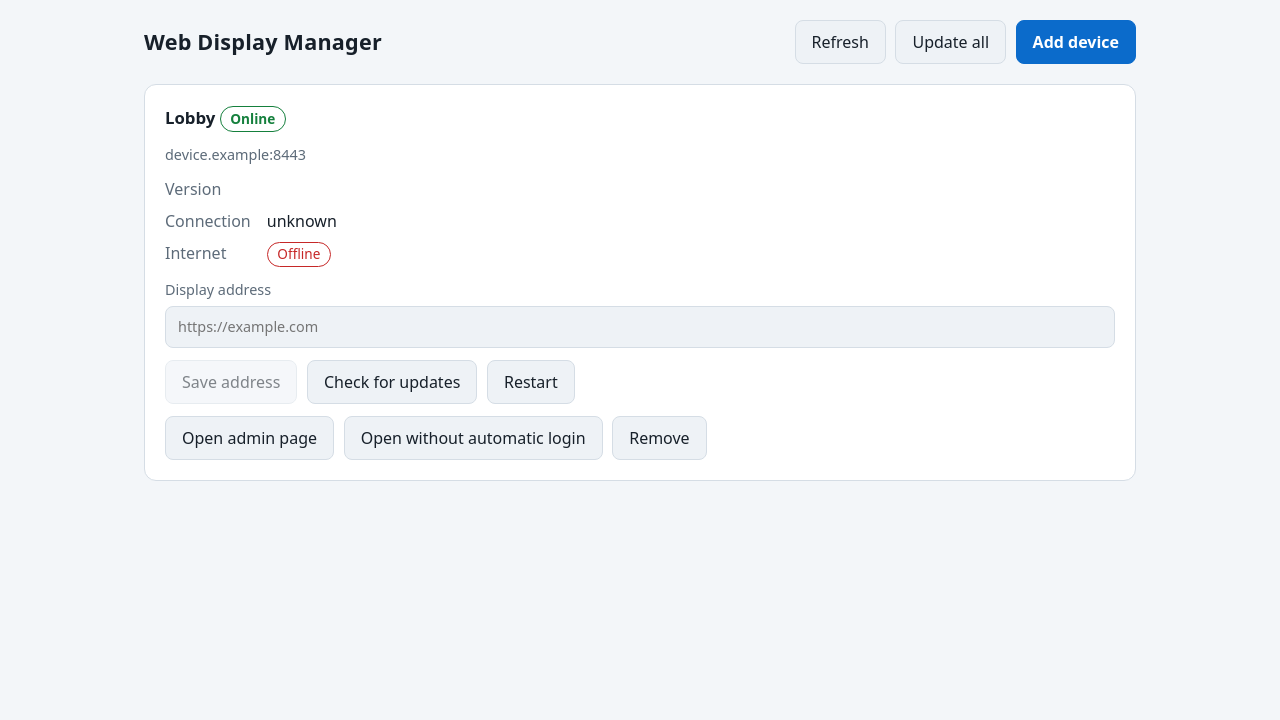
Scenario: closes the new tab and reports a failed automatic login
Click the button "Open admin page": coordinates (250, 438) [165,416,334,460]
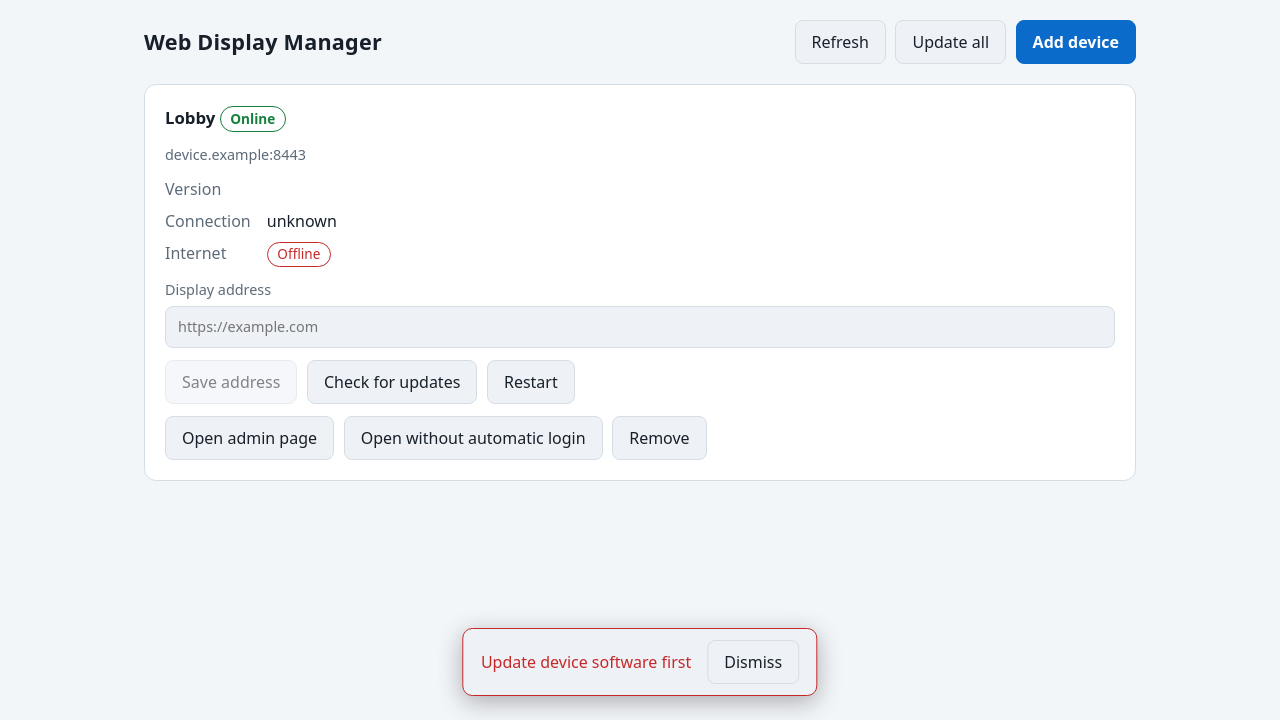
Expected: the text "Update device software first" is shown, [481,651,691,673]
